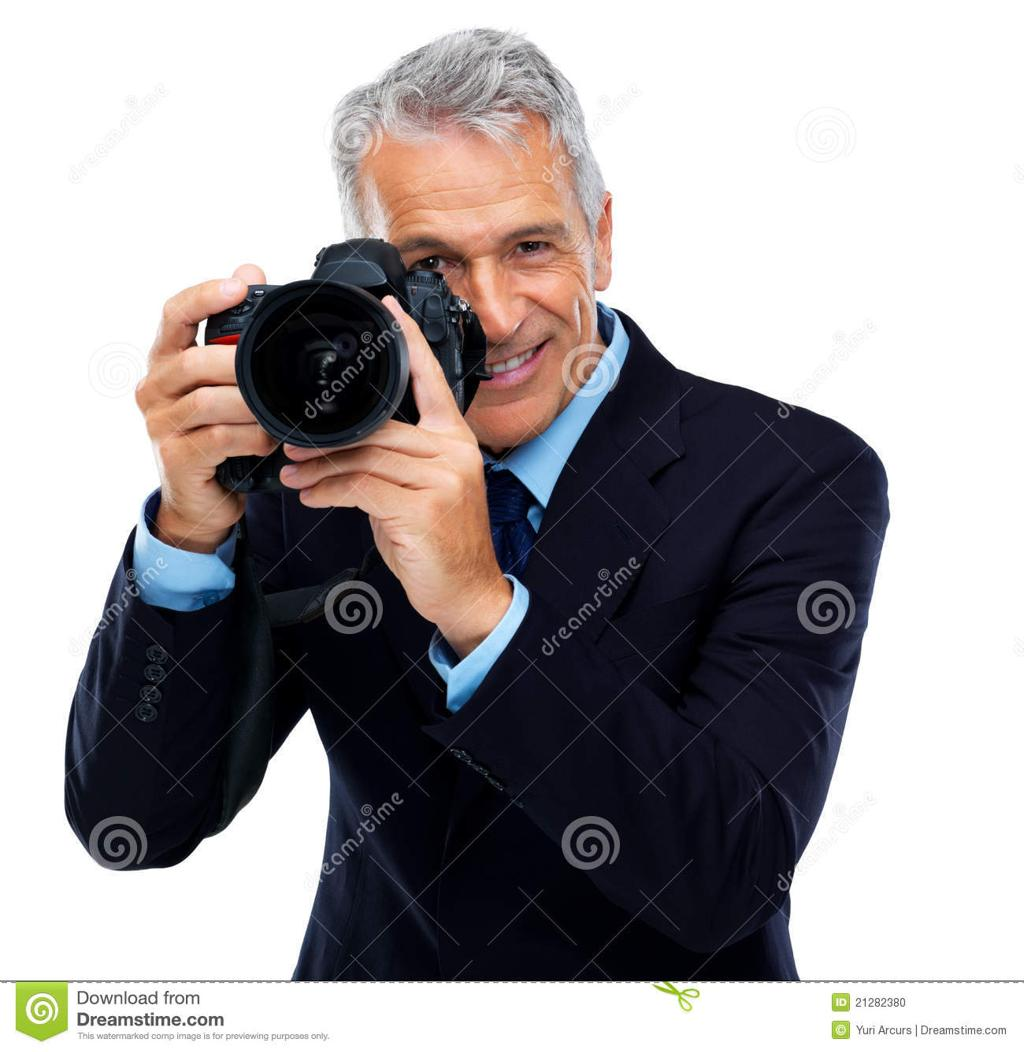face: (369, 125, 584, 447)
